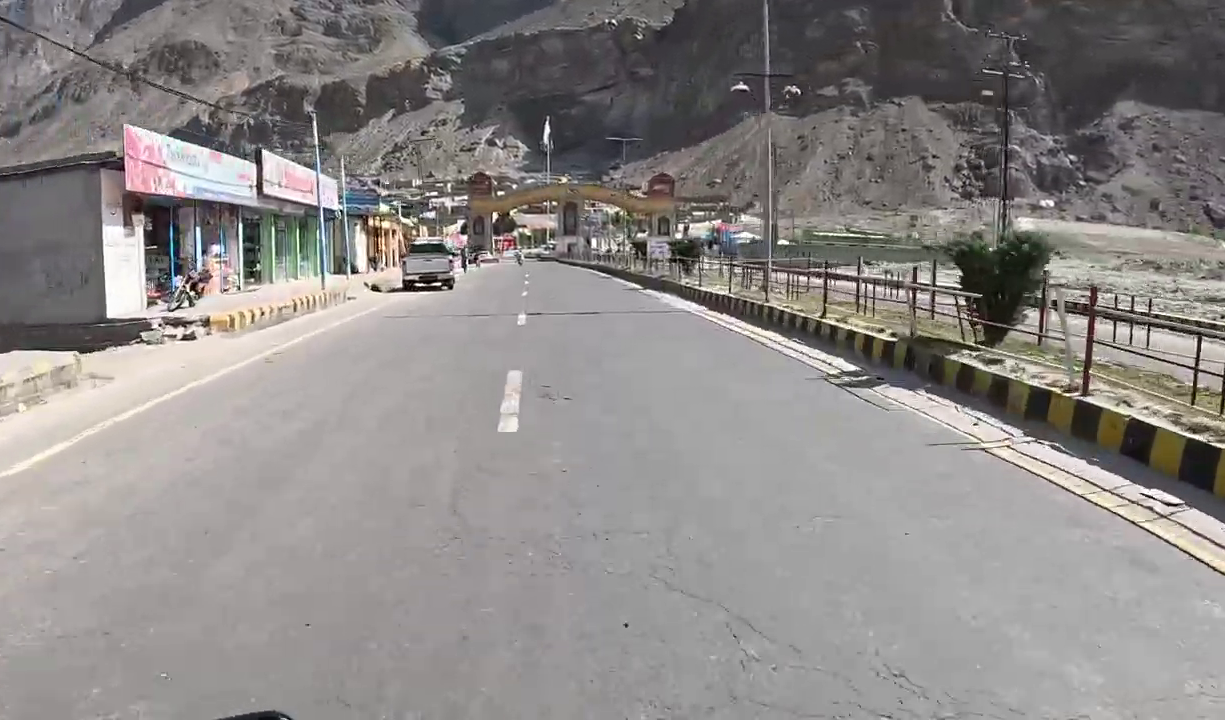left: (336, 307, 774, 614)
